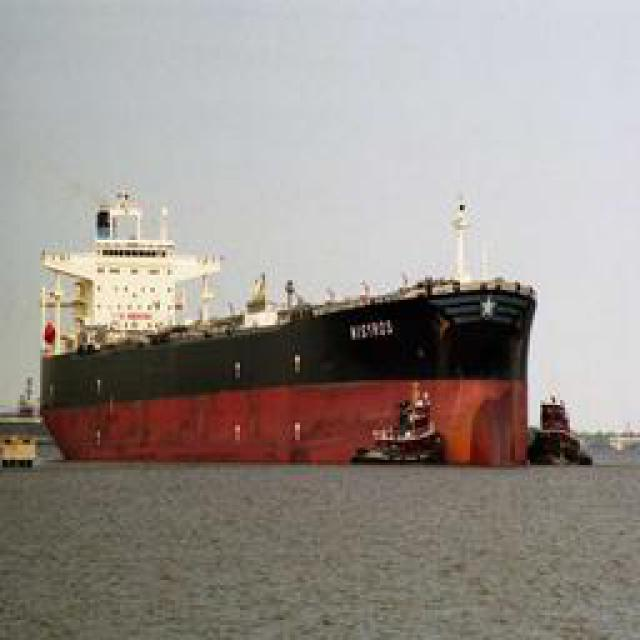Ship: (41, 266, 544, 466)
